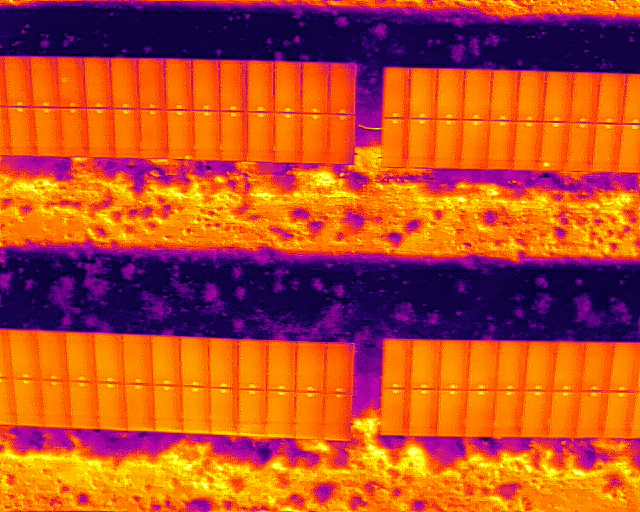photovoltaic_panels: (1, 48, 360, 166), (1, 327, 355, 444), (380, 64, 638, 175), (376, 335, 638, 441)
single_spot: (56, 56, 86, 108), (168, 109, 194, 160), (538, 122, 565, 171)
